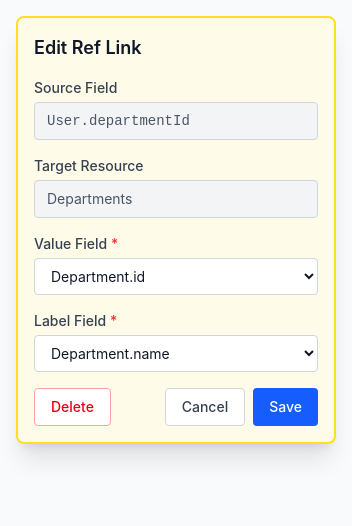
Test: RefLinkEditPanel › should display both validation errors when saving without selecting any fields
Step 1. Select "Select a field..." in the dropdown with test id "value-field-select" → x=176, y=276, box [34, 258, 318, 295]
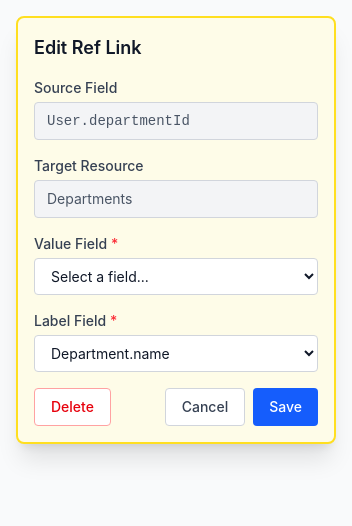
Step 2. Select "Select a field..." in the dropdown with test id "label-field-select" → x=176, y=354, box [34, 335, 318, 372]
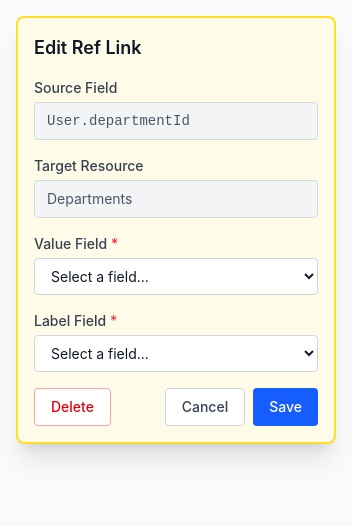
Step 3. Click the button with test id "save-button" → x=286, y=407, box [253, 388, 318, 426]
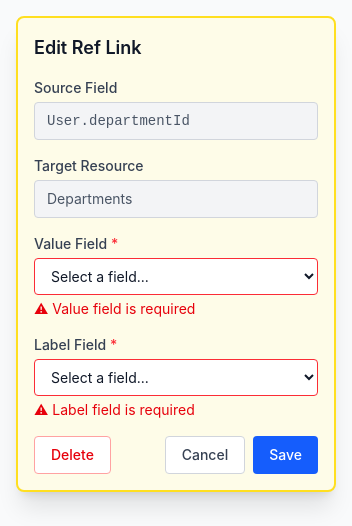
Now the message "⚠ Value field is required" is shown, box [34, 300, 196, 317]
Now the message "⚠ Label field is required" is shown, box [34, 401, 195, 418]
